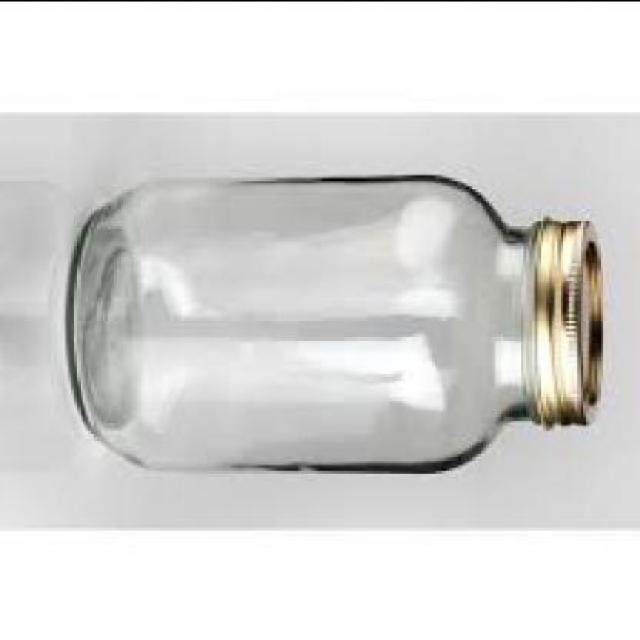GLASS: (69, 171, 548, 472)
METAL: (538, 213, 605, 421)
